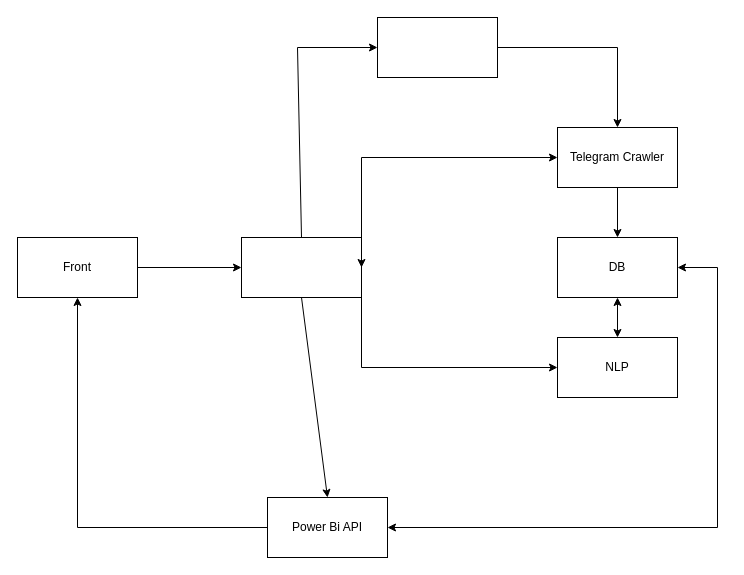
This 744x575 diagram has some shape labels left out. Here are the shapes that lost their labels. From the top down, the centre of each, then its label:
(x=437, y=47): Google sheet API or Data Base (Channel ID)
(x=301, y=267): API
